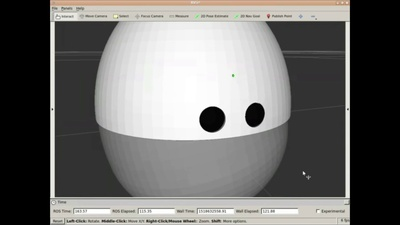mira_robot: (95, 23, 292, 196)
